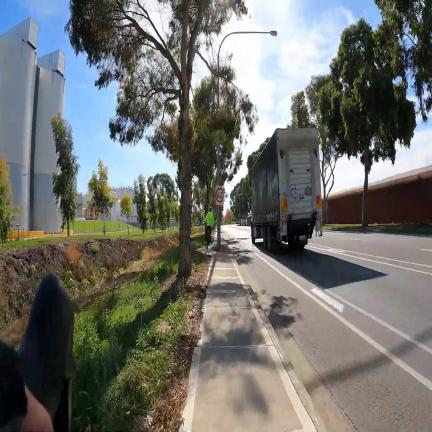Bike_Lane: (233, 240, 432, 432)
